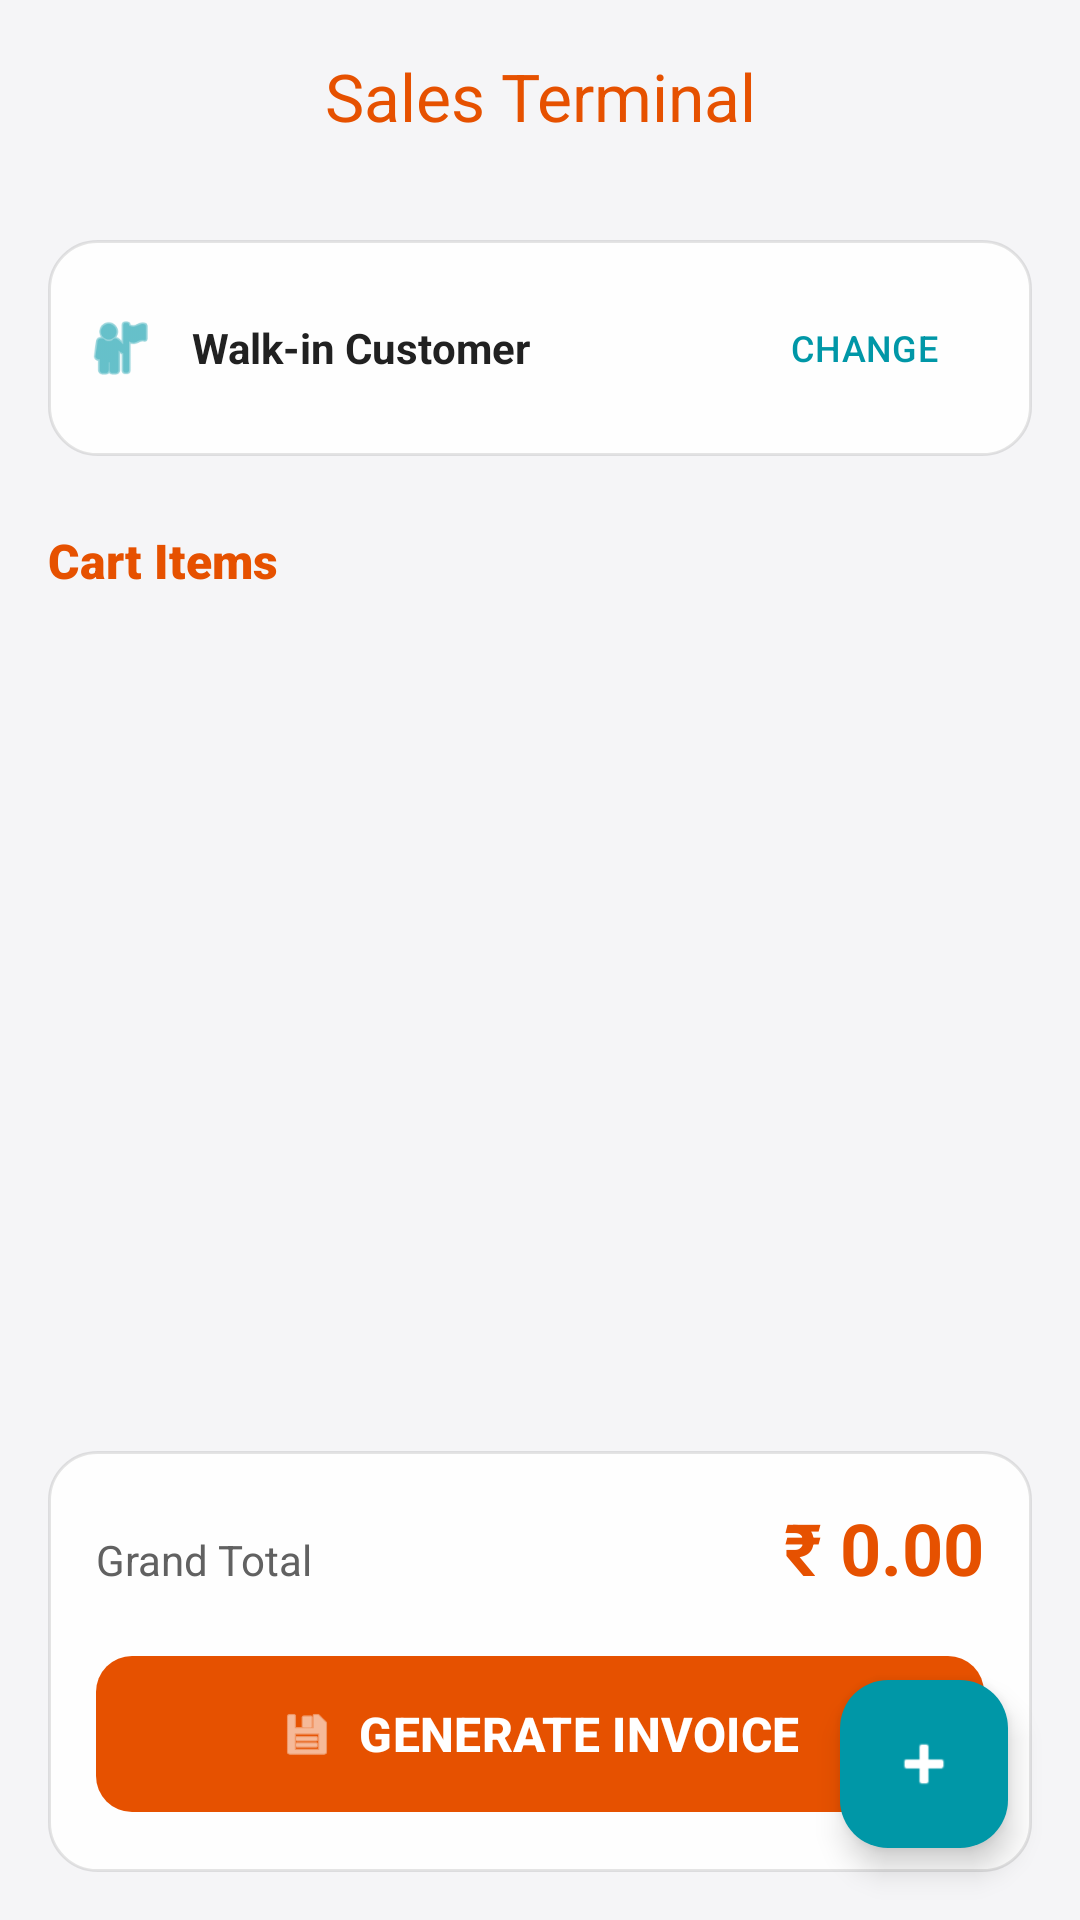

Point at icon controls on the screen. Image size 1080×1920, points as point (x, y).
add: point (924, 1764)
myplaces: point (121, 348)
